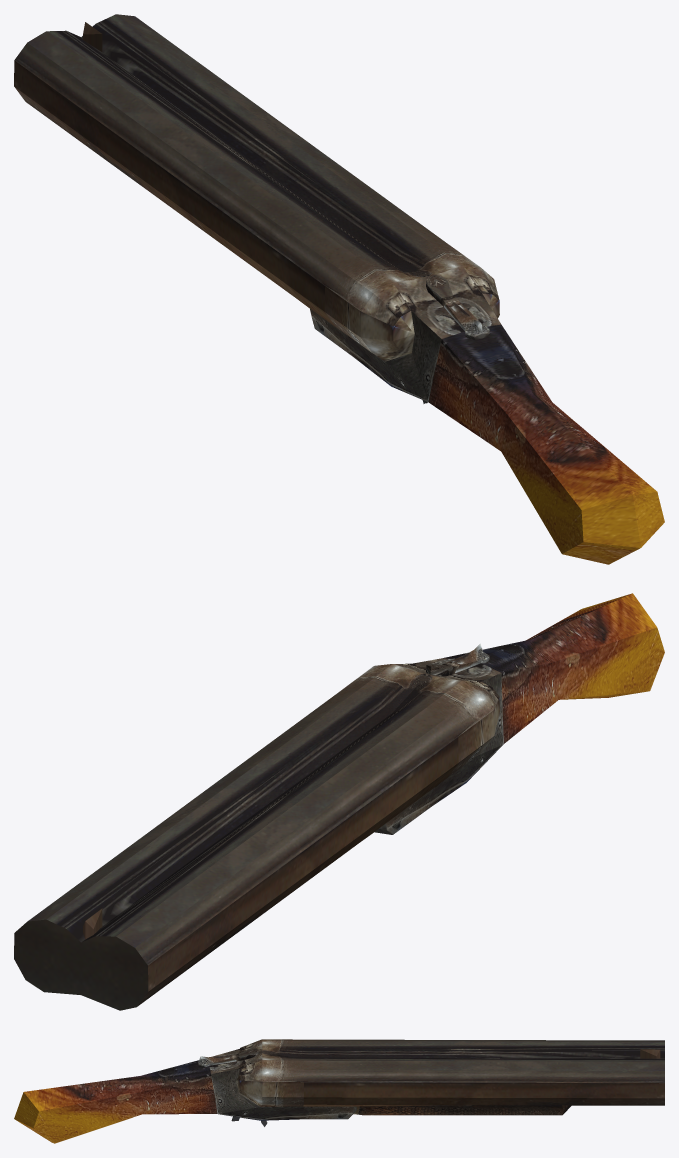
The model's file is roughneck.glb.
3 renders of one model, top to bottom at view 1: azimuth 30°, elevation 25°; view 2: azimuth 150°, elevation 25°; view 3: azimuth 270°, elevation 25°, orthographic. The views are drawn at different scales.
Parts seen in each view (by area): view 1: roughneck; view 2: roughneck; view 3: roughneck.
Part boxes in pixels (x1,y1,x2,y2): roughneck: (14,14,664,564); roughneck: (14,593,664,1010); roughneck: (14,1039,664,1143).
Bounding box in the file's own units: 0.1297 × 0.1485 × 0.9358.
1 material, 1 textured.
